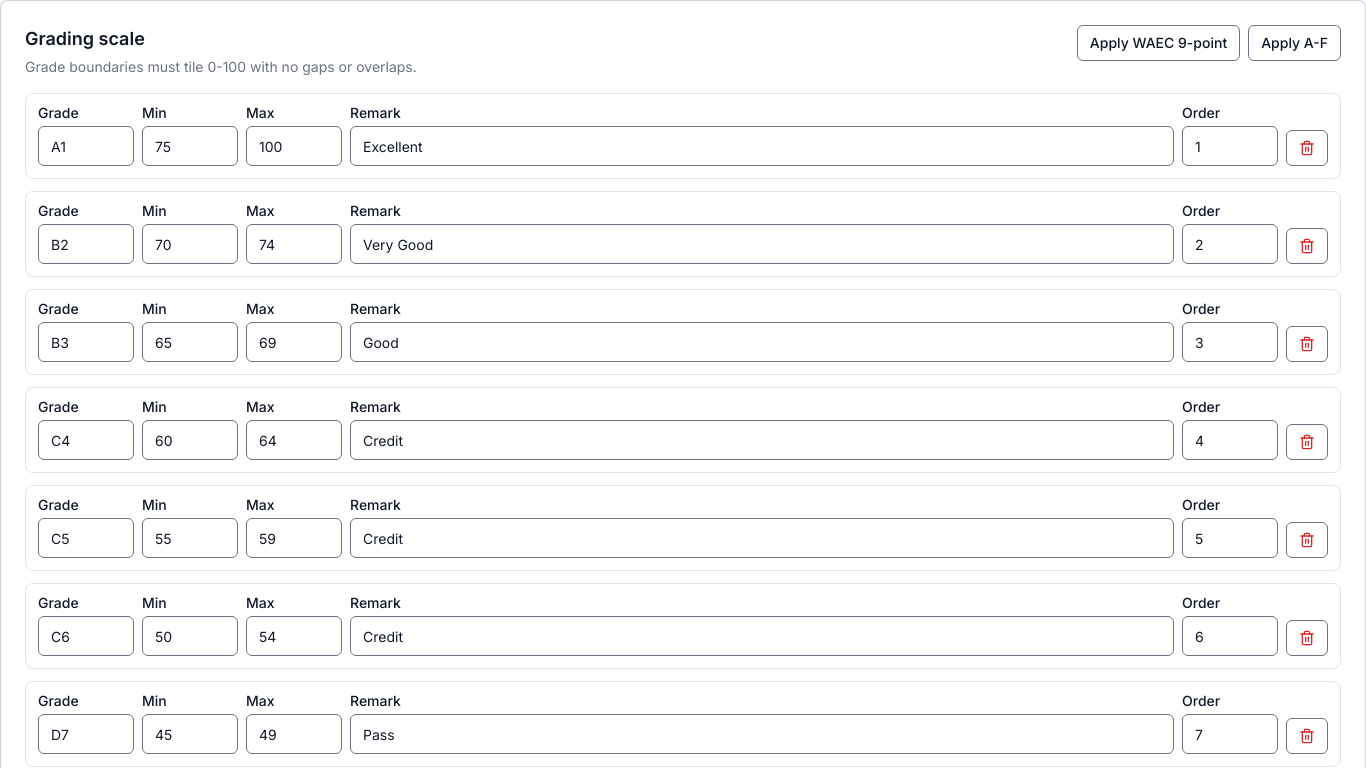
Test: GradingScalePanel › flags a gap when a row is removed and blocks save
Expected: the 1st field showing "A1" is shown, [38,126,134,166]
Note: D7 (45-49) is the 7th row (index 6).
Click the button named "Remove" at (1307, 736), box [1286,718,1328,754]
(page scrolled)
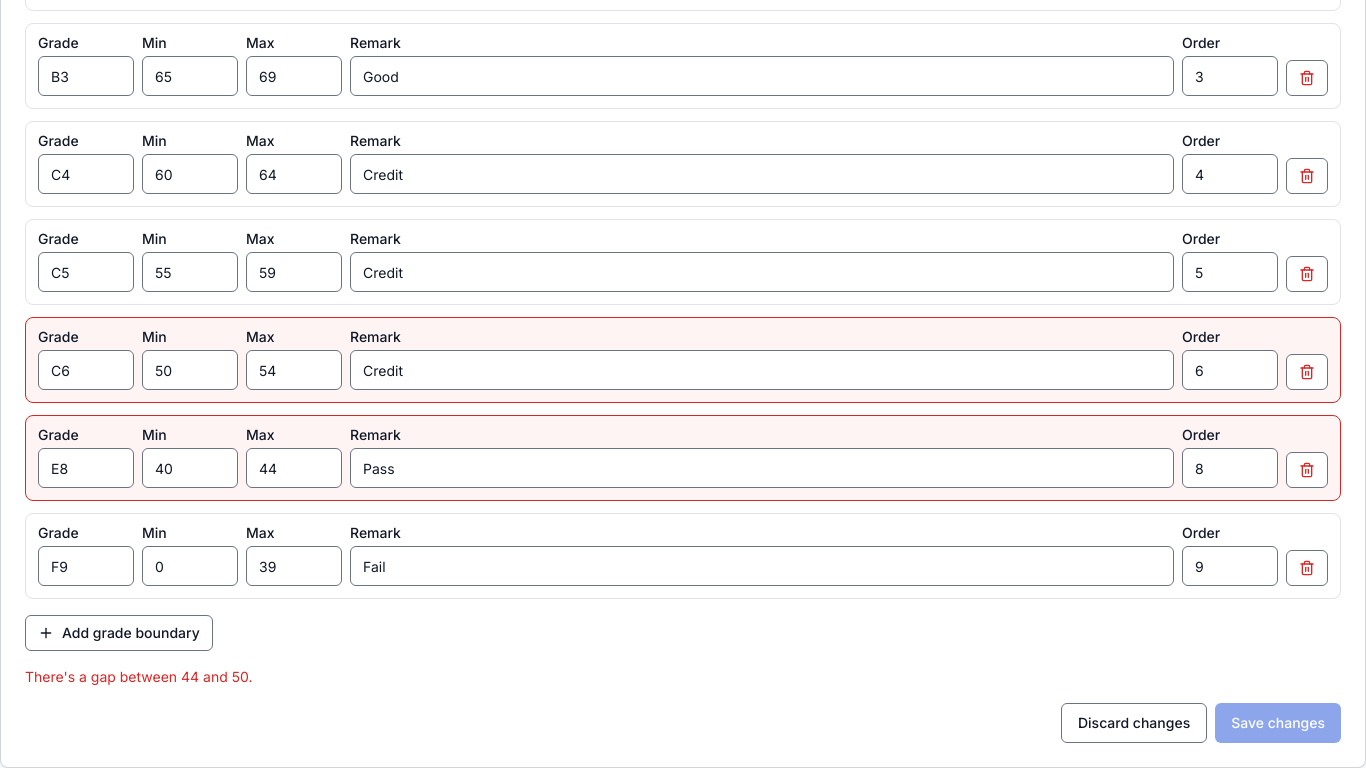
Expected: the button "Save changes" is disabled, [1215,703,1341,743]
Expected: the text "There's a gap between 44 and 50." is shown, [25,668,252,685]
